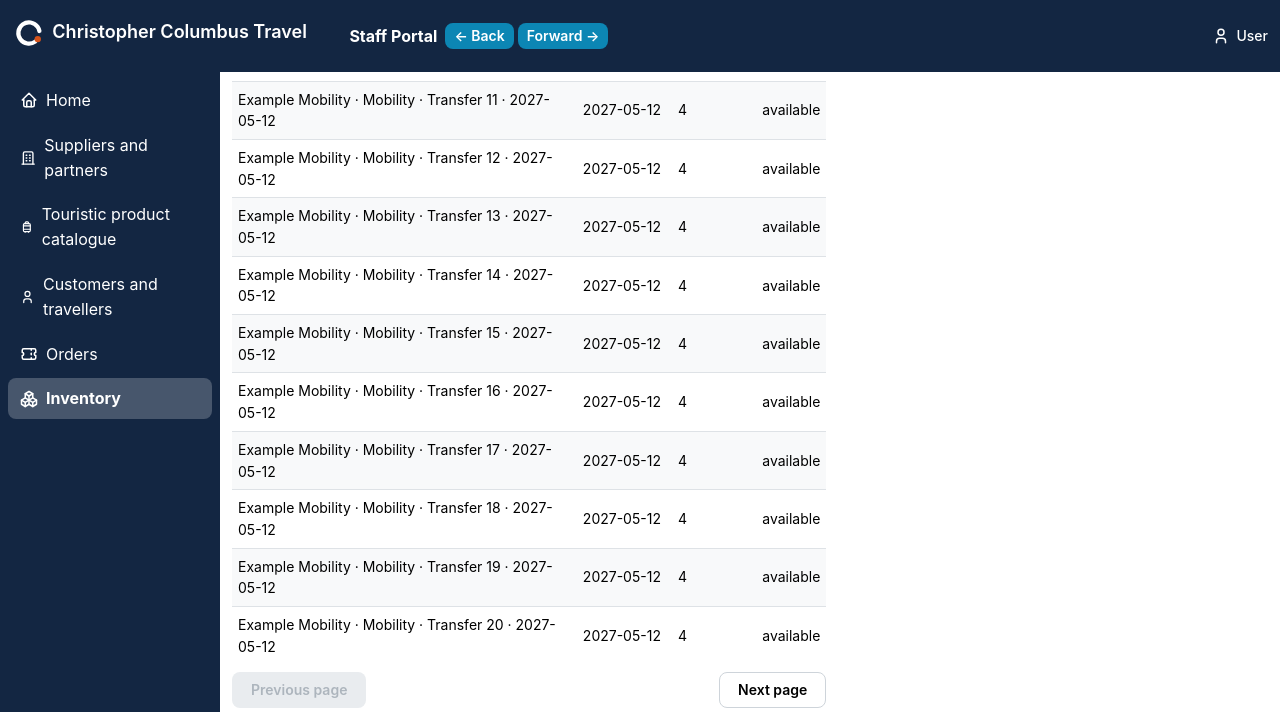
it: StockItemsRoute › advances the result caption with the cursor page
(page scrolled)
Click the button "Next page": (773, 690) [719, 672, 826, 708]
(page scrolled)
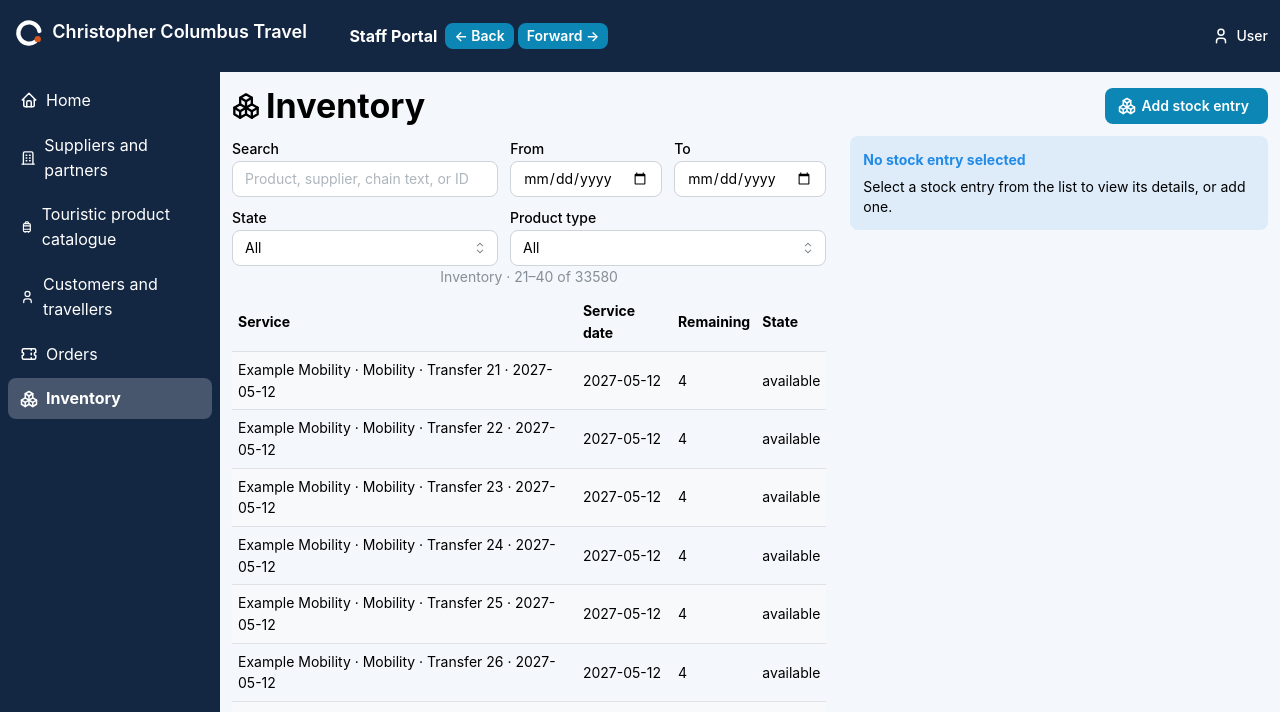
Expected: the text "Inventory · 21–40 of 33580" is shown, [440, 268, 618, 285]
